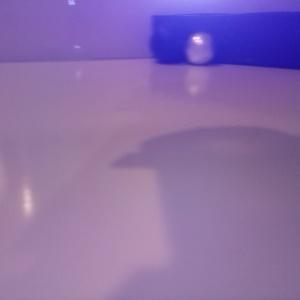alive_ball: (184, 32, 214, 65)
dead_ball: (149, 23, 186, 63)
